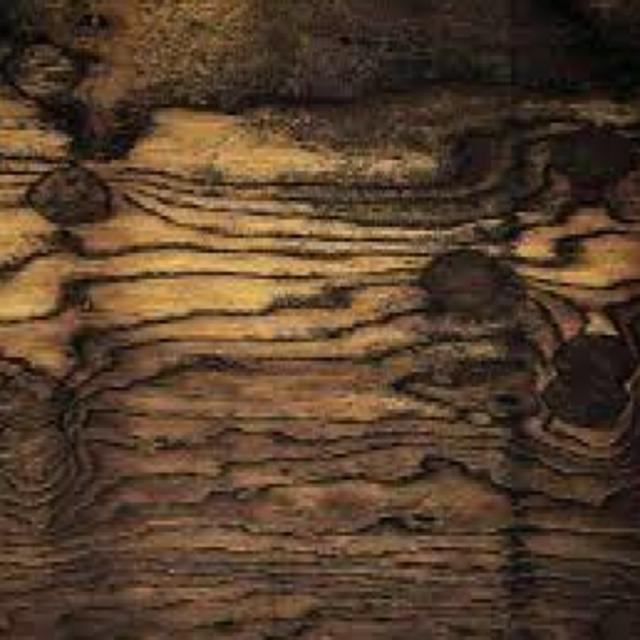have-wooden-eyes: (422, 249, 510, 318)
